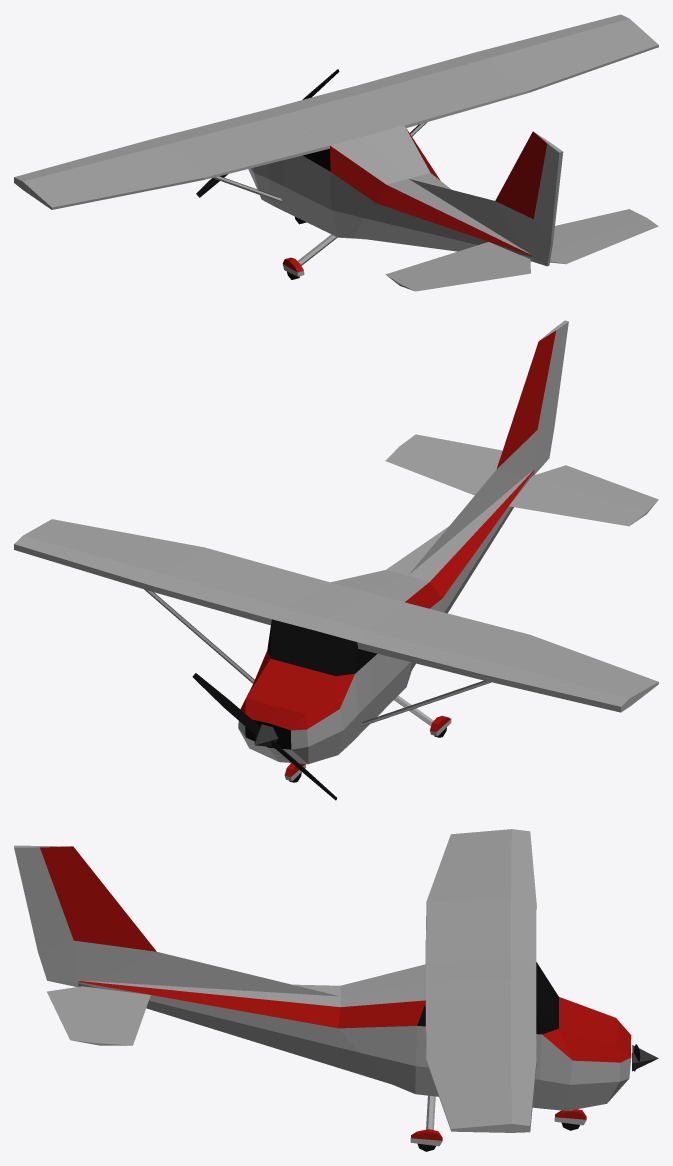
Rendered from small-airplane-v3.obj.
The picture shows the model from 3 angles, top to bottom: view 1: azimuth 30°, elevation 25°; view 2: azimuth 150°, elevation 25°; view 3: azimuth 270°, elevation 25°; orthographic projection. The views are drawn at different scales.
Visible parts, largest first — view 1: Fuselage_Cube.003; view 2: Fuselage_Cube.003, Propeller_Cone; view 3: Fuselage_Cube.003.
Part boxes in pixels (left/top/right/bottom): Fuselage_Cube.003: left=14, top=14, right=658, bottom=291; Fuselage_Cube.003: left=14, top=320, right=658, bottom=782; Propeller_Cone: left=192, top=673, right=336, bottom=800; Fuselage_Cube.003: left=14, top=829, right=631, bottom=1151.
Bounding box in the file's own units: 11.07 × 4.67 × 9.73.
